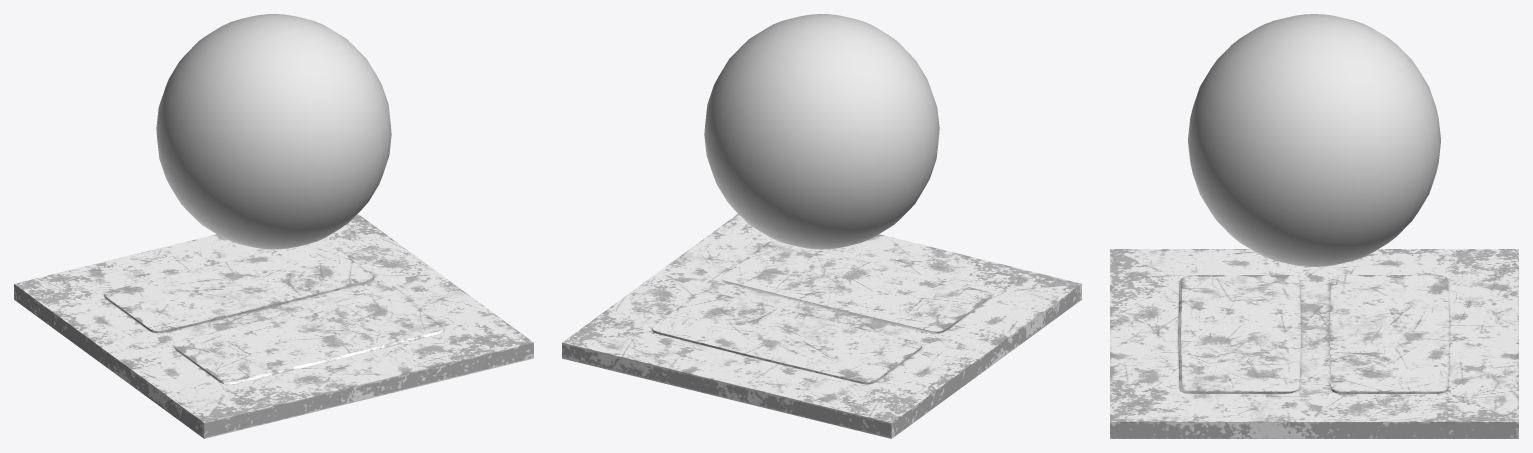
File: Modular_Dungeon_Exit.fbx
3 views of the same model, side by side, from view 1: azimuth 30°, elevation 25°; view 2: azimuth 150°, elevation 25°; view 3: azimuth 270°, elevation 25° (orthographic). The views are drawn at different scales.
Visible parts, largest first — view 1: Bodenplatte_Lo_Exit; view 2: Bodenplatte_Lo_Exit; view 3: Bodenplatte_Lo_Exit.
Part boxes in pixels (<box>): Bodenplatte_Lo_Exit: <box>14,14,533,438</box>; Bodenplatte_Lo_Exit: <box>562,14,1081,438</box>; Bodenplatte_Lo_Exit: <box>1110,14,1518,438</box>.
Bounding box in the file's own units: 280 × 247 × 280.
